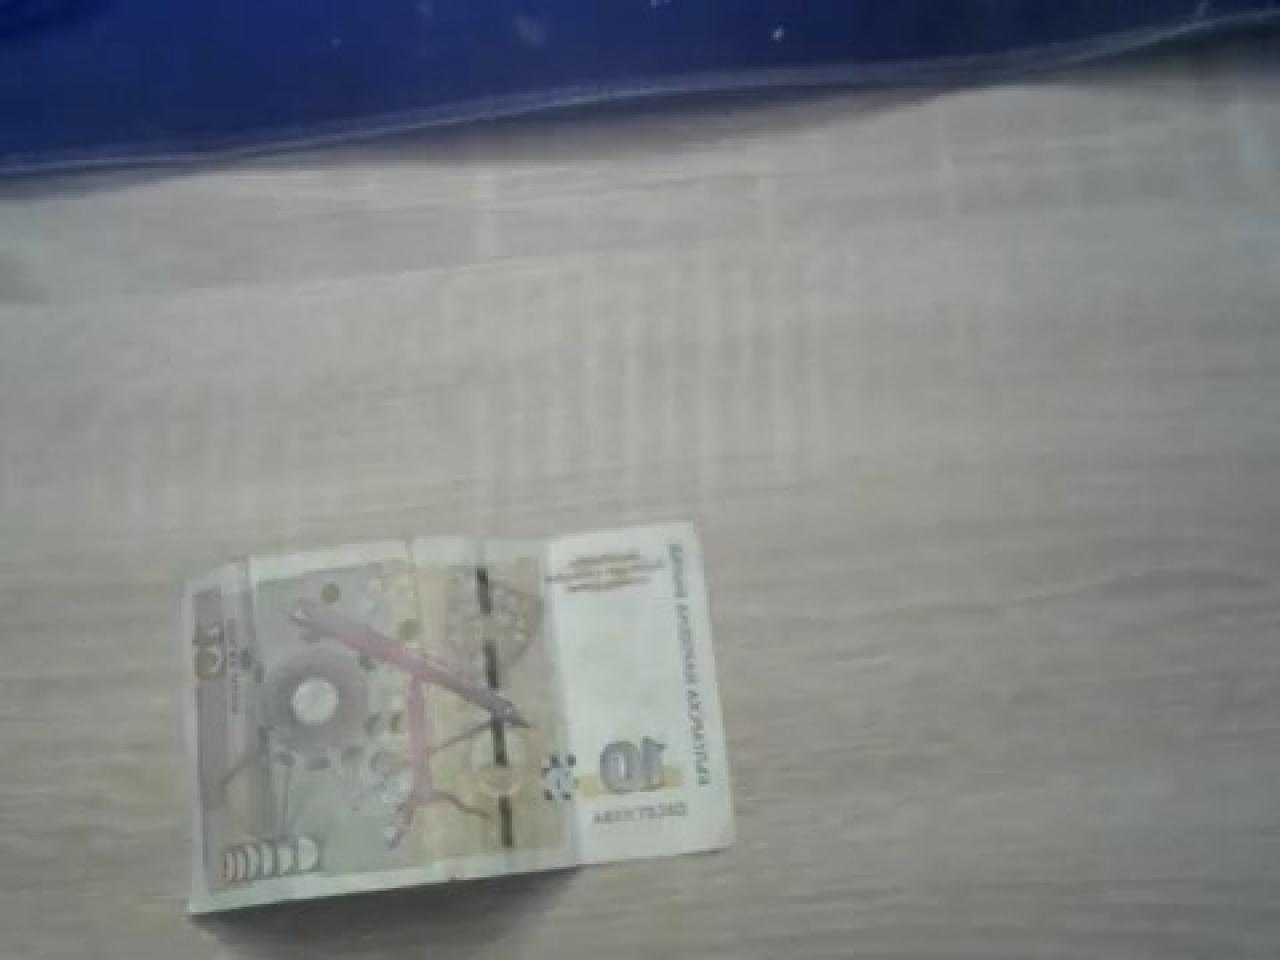10leva: (178, 522, 739, 928)
